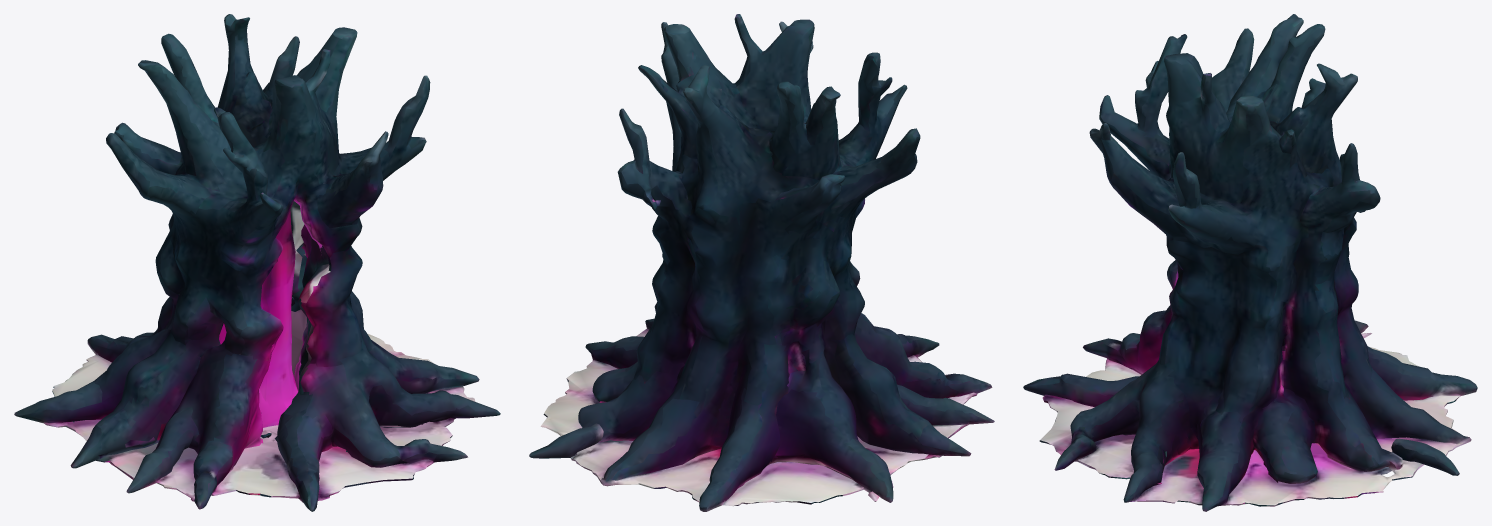
File: root-east-generated-2026-04-19T17-05-01-813Z.low.glb
3 renders of one model, left to right at view 1: azimuth 30°, elevation 25°; view 2: azimuth 150°, elevation 25°; view 3: azimuth 270°, elevation 25°, orthographic.
Parts seen in each view (by area): view 1: temp_mesh.ply; view 2: temp_mesh.ply; view 3: temp_mesh.ply.
Part boxes in pixels (x1,y1,x2,y2): temp_mesh.ply: (14, 14, 500, 511); temp_mesh.ply: (529, 14, 994, 511); temp_mesh.ply: (1023, 14, 1477, 511).
Size of the model in its own units: 1.97 by 1.77 by 1.97.
1 material, 1 textured.
